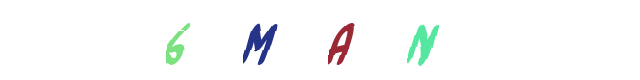6: (219, 0, 299, 80)
A: (284, 0, 364, 80)
M: (280, 0, 360, 80)
N: (301, 0, 381, 80)
